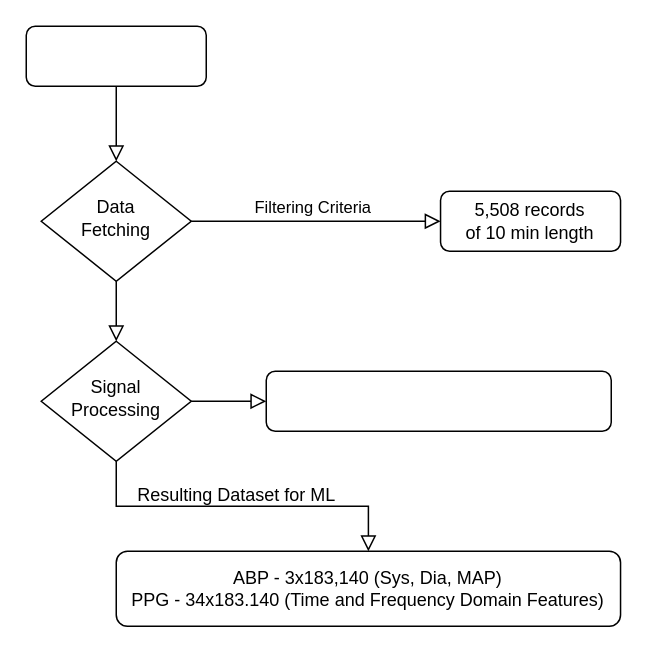
Some shapes in this 648 by 653 pixel diagram are drawn without their labels. Here are the shapes that lost their labels. From the top down, the centre of each, then its label:
(115,55): MIMIC-IV (198 subjects)
(438,400): 1,309,265 total values 183,140 median values (7 sec interval)
